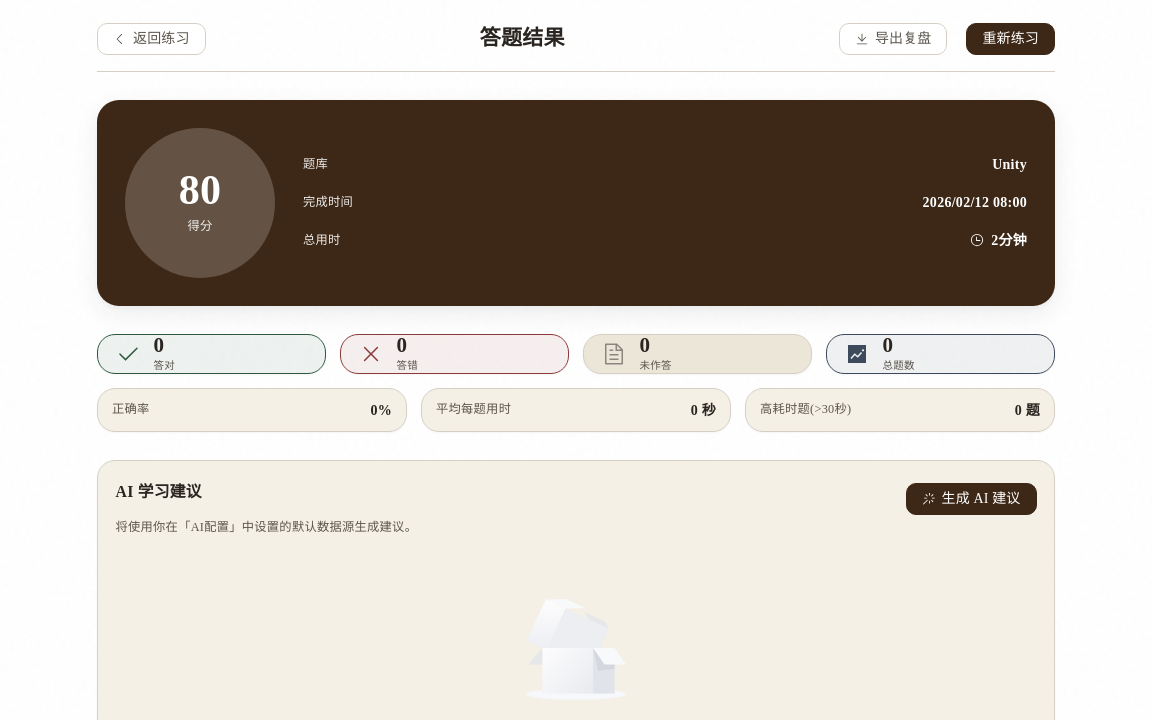
Test: ResultView › 应能生成并展示AI建议
The image size is (1152, 720).
Click the button "生成 AI 建议".
click(971, 499)  # box [906, 483, 1036, 515]
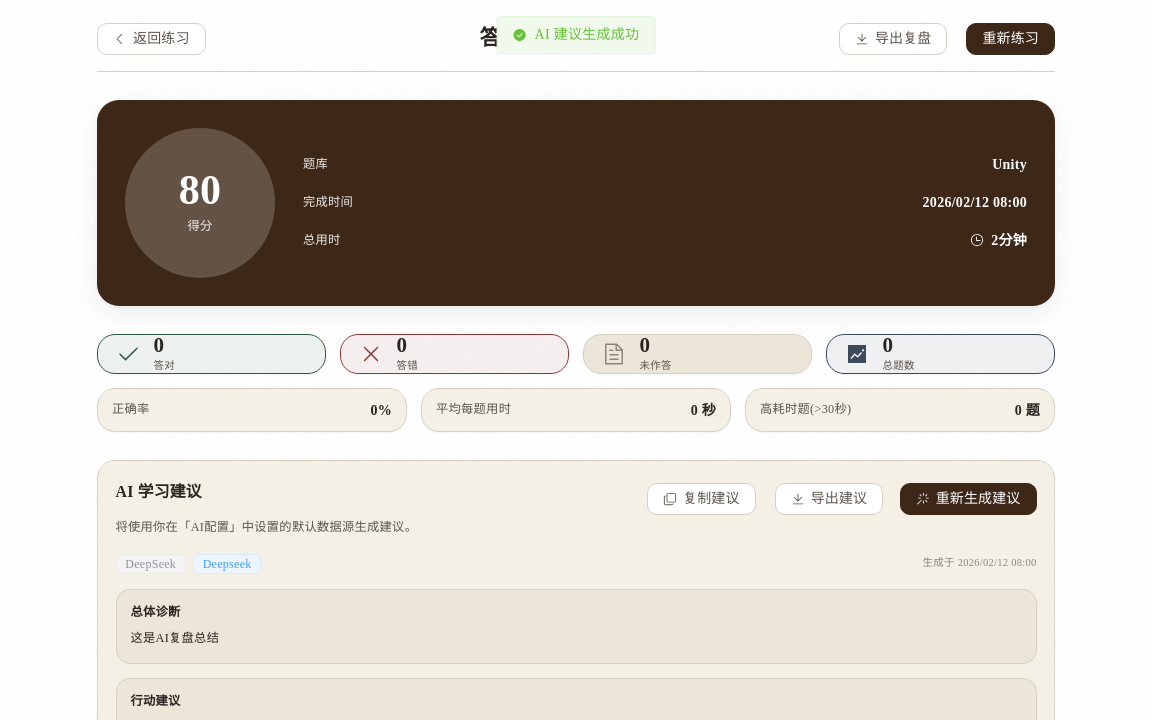
Expected: the text "这是AI复盘总结" is shown, [130, 631, 219, 645]
